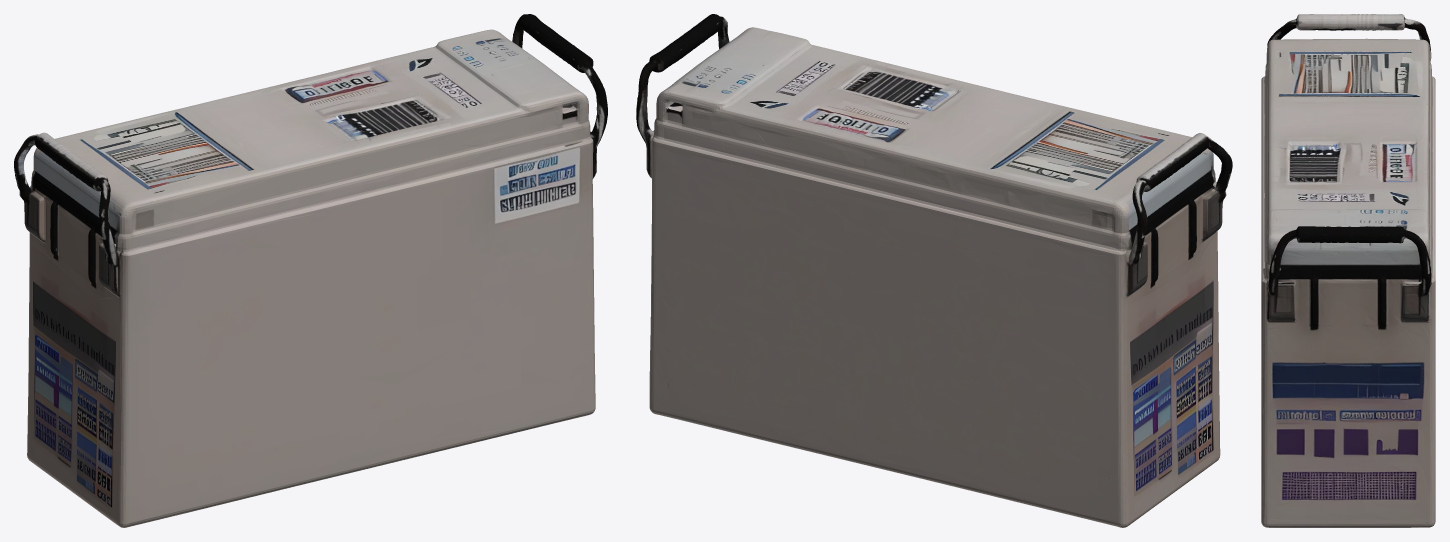
Rendered from emcar-victron-agm-200.glb.
The picture shows the model from 3 angles, left to right: view 1: azimuth 30°, elevation 25°; view 2: azimuth 150°, elevation 25°; view 3: azimuth 270°, elevation 25°; orthographic projection. The views are drawn at different scales.
Visible parts, largest first — view 1: demo_textured.obj; view 2: demo_textured.obj; view 3: demo_textured.obj.
Part boxes in pixels (box(x1,y1,x2,y2)): demo_textured.obj: box(14, 14, 607, 527); demo_textured.obj: box(636, 14, 1232, 527); demo_textured.obj: box(1261, 14, 1435, 527).
Bounding box in the file's own units: 1.99 × 1.28 × 0.6582.
Materials: 1 (1 with a texture image).
